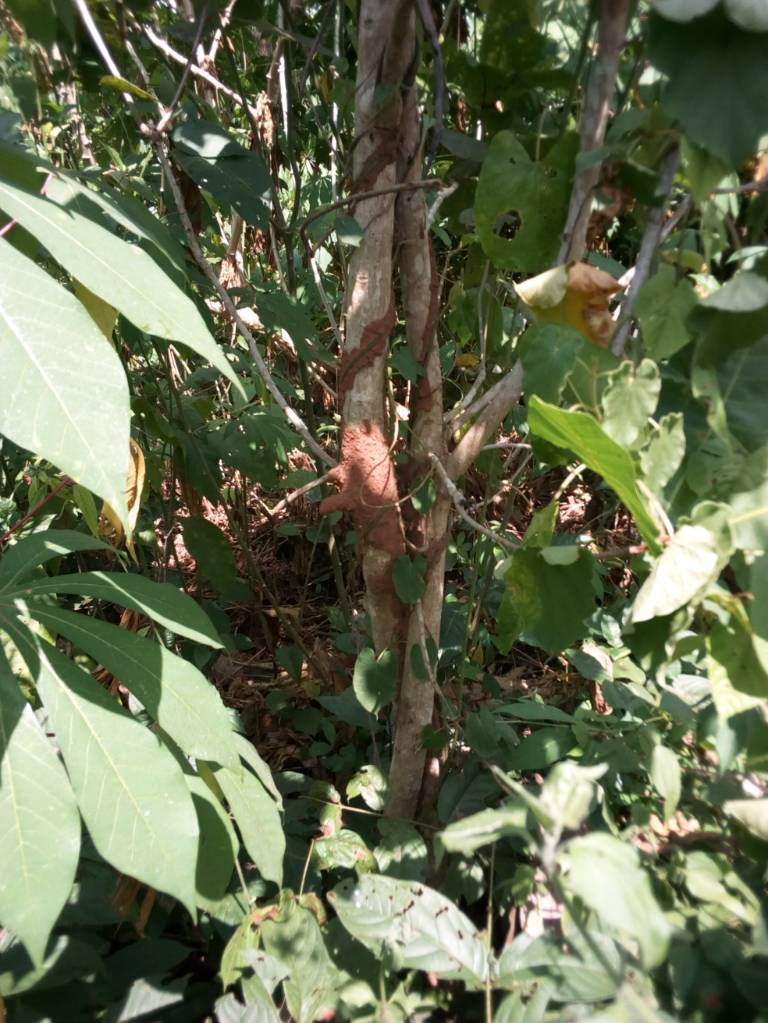Termites: (338, 333, 415, 555)
